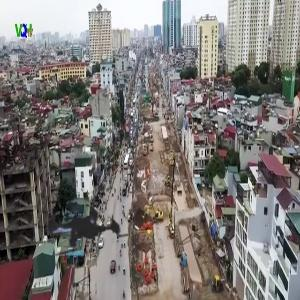drone: (11, 152, 154, 295)
